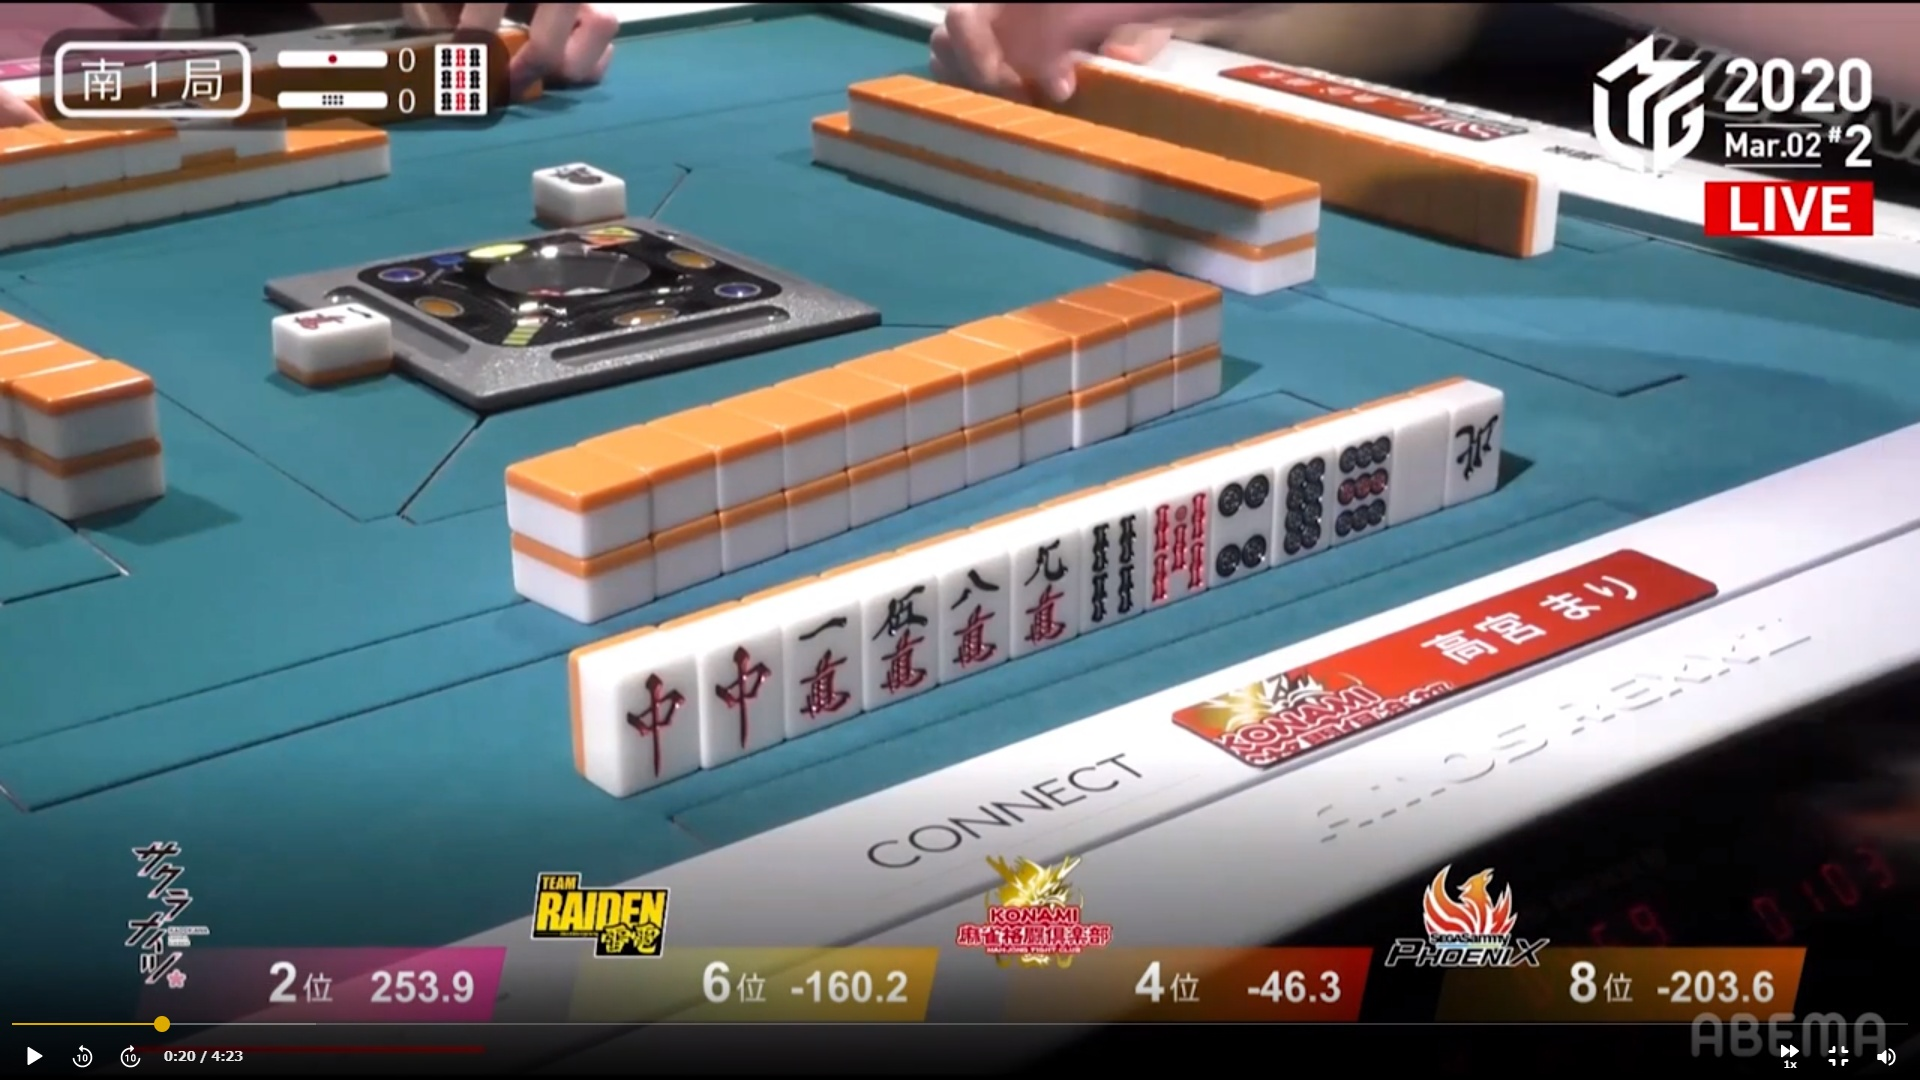1m: (781, 603, 862, 728)
4p: (1208, 468, 1267, 580)
4s: (1083, 509, 1141, 622)
5m: (866, 576, 943, 702)
5sr: (1138, 492, 1207, 600)
8m: (944, 554, 997, 671)
8p: (1276, 447, 1328, 558)
9m: (1013, 535, 1073, 645)
9p: (1332, 431, 1385, 535)
chun: (608, 658, 695, 787), (702, 632, 781, 756)
haku: (1390, 396, 1445, 517)
hand_nan_1: (46, 32, 253, 115)
pei: (1447, 394, 1503, 498)
round_0: (266, 84, 423, 120)
team_konami: (1164, 647, 1465, 770)
